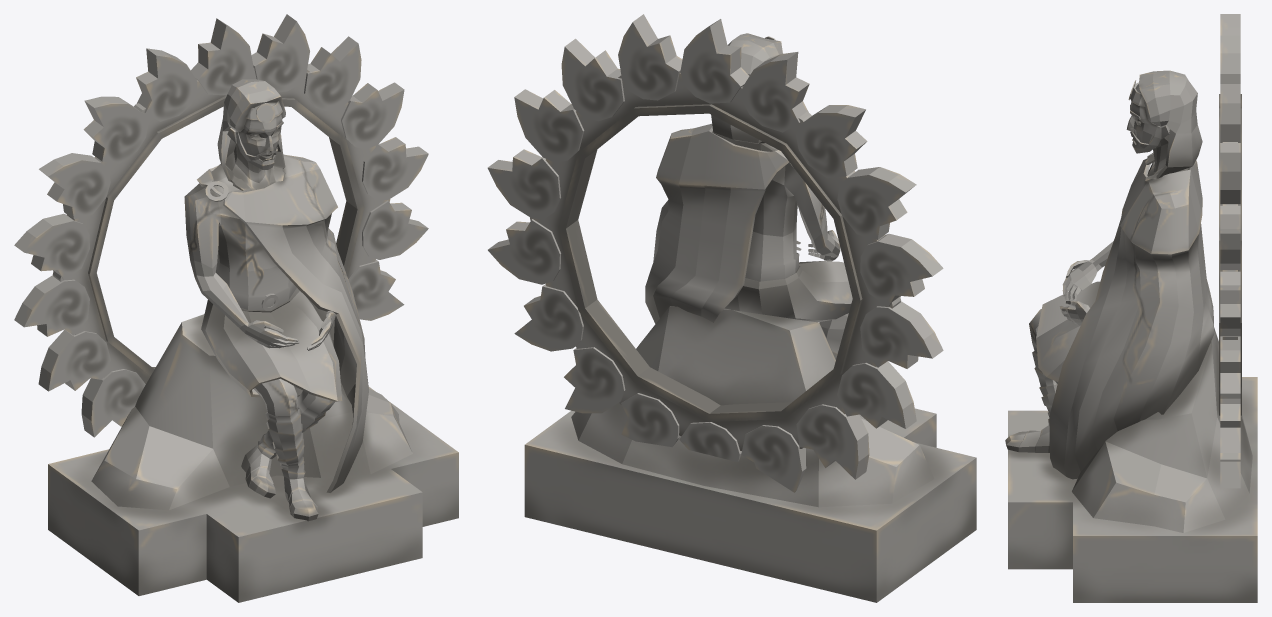
The model's file is Statue.fbx.
3 views of the same model, side by side, from view 1: azimuth 30°, elevation 25°; view 2: azimuth 150°, elevation 25°; view 3: azimuth 270°, elevation 25° (orthographic). The views are drawn at different scales.
Parts seen in each view (by area): view 1: Statue_Stand, Statue_Body; view 2: Statue_Stand, Statue_Body; view 3: Statue_Stand, Statue_Body.
Part boxes in pixels (x1,y1,x2,y2): Statue_Stand: [14, 14, 458, 602]; Statue_Body: [184, 79, 368, 521]; Statue_Stand: [487, 14, 976, 602]; Statue_Body: [645, 33, 852, 359]; Statue_Stand: [1008, 14, 1257, 602]; Statue_Body: [1005, 70, 1214, 479].
Size of the model in its own units: 154 by 174 by 81.74.
